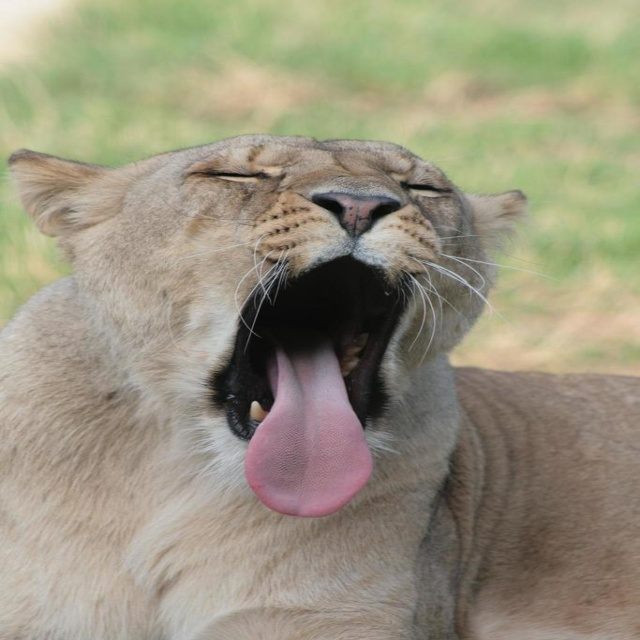Lion: (0, 132, 639, 640)
